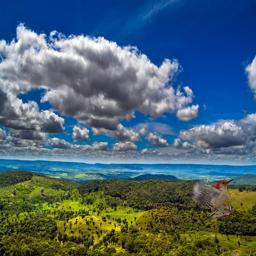Woodpecker: (184, 178, 234, 222)
